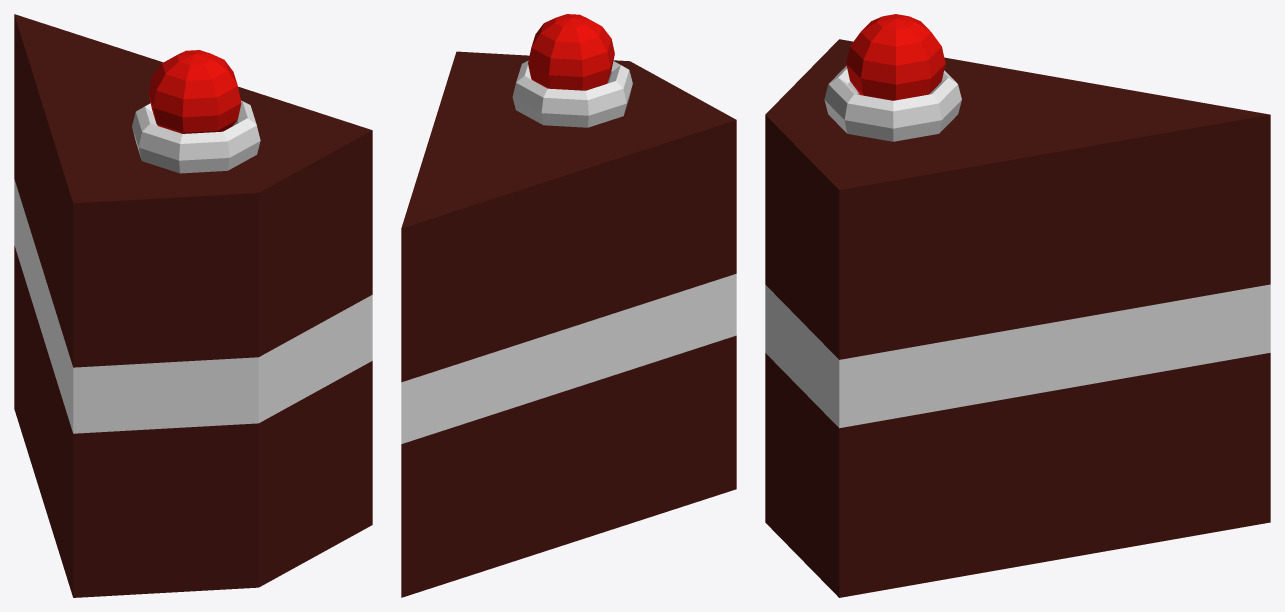
The model's file is cake.fbx.
3 renders of one model, left to right at view 1: azimuth 30°, elevation 25°; view 2: azimuth 150°, elevation 25°; view 3: azimuth 270°, elevation 25°, orthographic. The views are drawn at different scales.
Parts seen in each view (by area): view 1: Torus.001, Torus.002, Torus.003, Torus.020; view 2: Torus.001, Torus.002, Torus.003, Torus.020; view 3: Torus.001, Torus.002, Torus.003, Torus.020.
Boxes of the visible parts, x1=… form: Torus.001: x1=14, y1=14, x2=372, y2=597; Torus.002: x1=14, y1=80, x2=372, y2=594; Torus.003: x1=34, y1=94, x2=372, y2=597; Torus.020: x1=37, y1=80, x2=372, y2=341; Torus.001: x1=401, y1=14, x2=736, y2=597; Torus.002: x1=401, y1=100, x2=736, y2=596; Torus.003: x1=516, y1=122, x2=736, y2=539; Torus.020: x1=512, y1=55, x2=736, y2=248; Torus.001: x1=765, y1=14, x2=1270, y2=566; Torus.002: x1=765, y1=56, x2=1270, y2=563; Torus.003: x1=765, y1=64, x2=1119, y2=597; Torus.020: x1=765, y1=60, x2=1109, y2=338.
Bounding box in the file's own units: 135 × 210 × 191.
